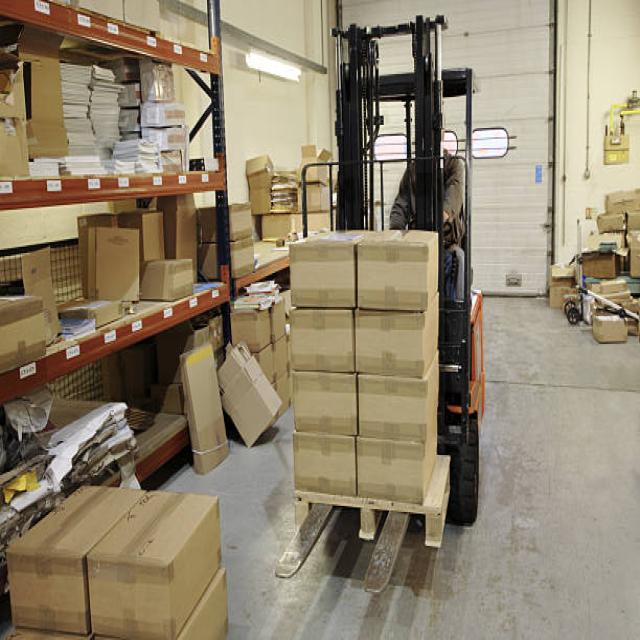Wooden-Pallets: (285, 483, 452, 560)
